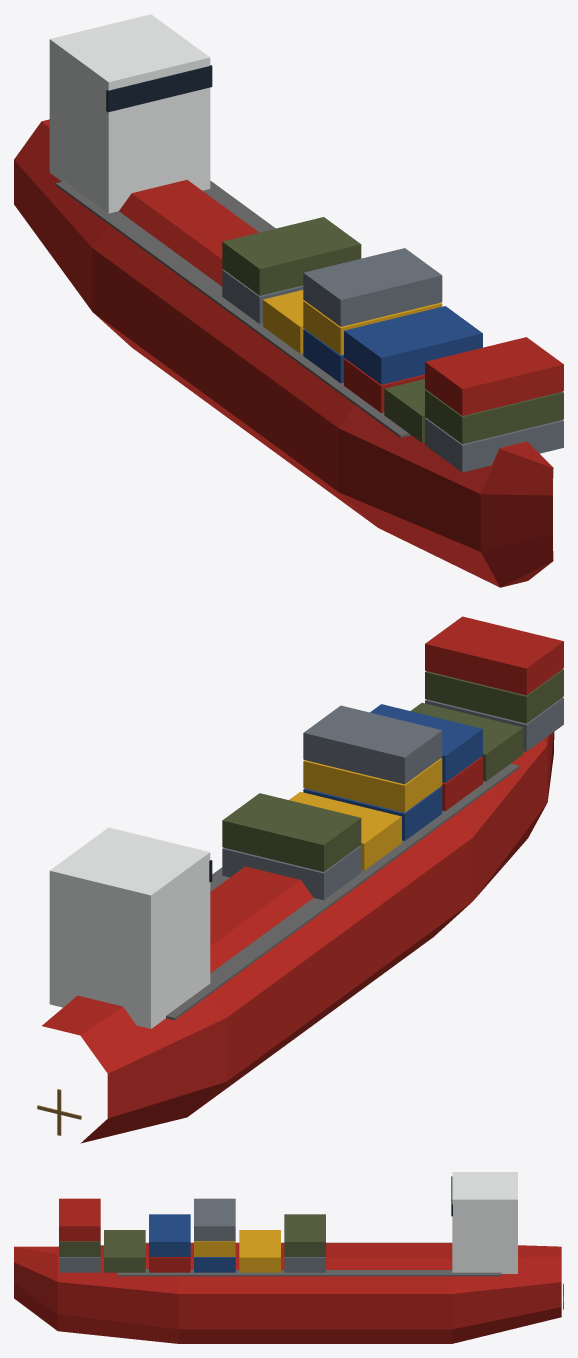
The model's file is veh_naval_merchant_a08.glb.
3 renders of one model, top to bottom at view 1: azimuth 30°, elevation 25°; view 2: azimuth 150°, elevation 25°; view 3: azimuth 270°, elevation 25°, orthographic. The views are drawn at different scales.
Parts seen in each view (by area): view 1: body; view 2: body; view 3: body.
Boxes of the visible parts, bbox=[...] form: body: bbox=[14, 14, 563, 587]; body: bbox=[42, 616, 563, 1143]; body: bbox=[14, 1172, 561, 1343].
Size of what is drawn, in the model's own units: 4.96 by 9.58 by 31.73.
